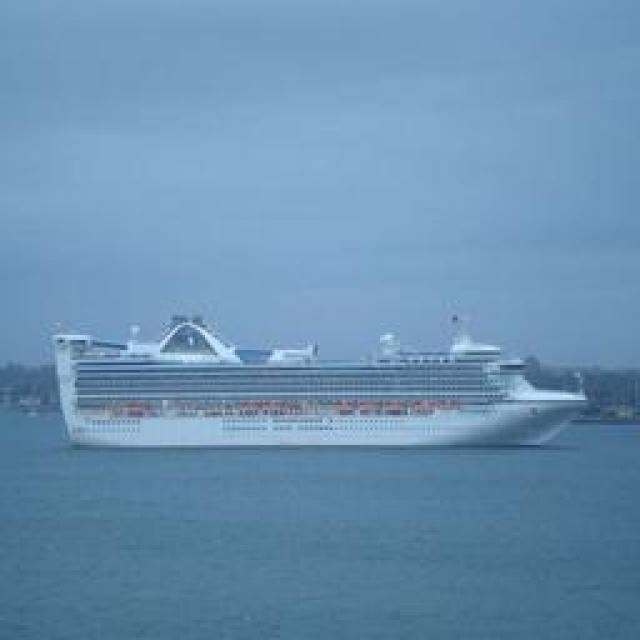CIV_Ship: (52, 311, 592, 451)
